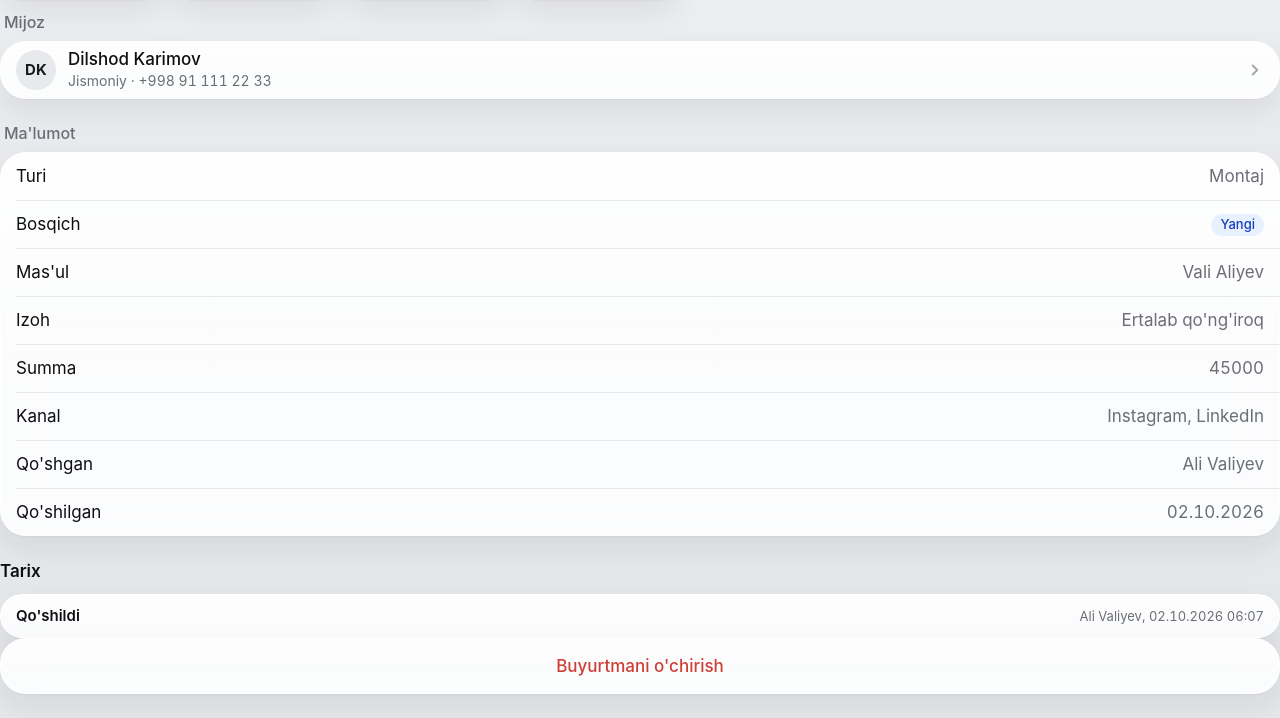
a deletion the API refuses says why and keeps the order
The image size is (1280, 718).
(page scrolled)
Click the button "Buyurtmani o'chirish".
click(640, 666)  # box [0,638,1279,694]
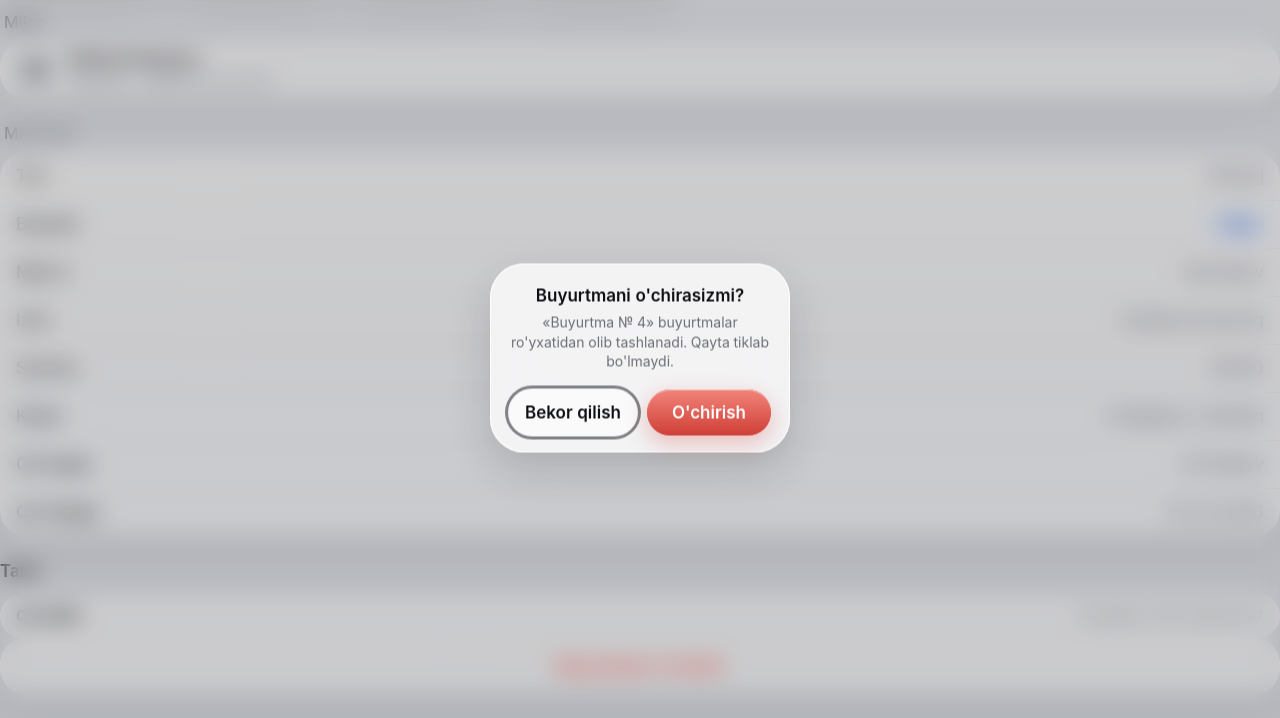
Click the button "O'chirish".
click(709, 412)  # box [646,388,772,436]
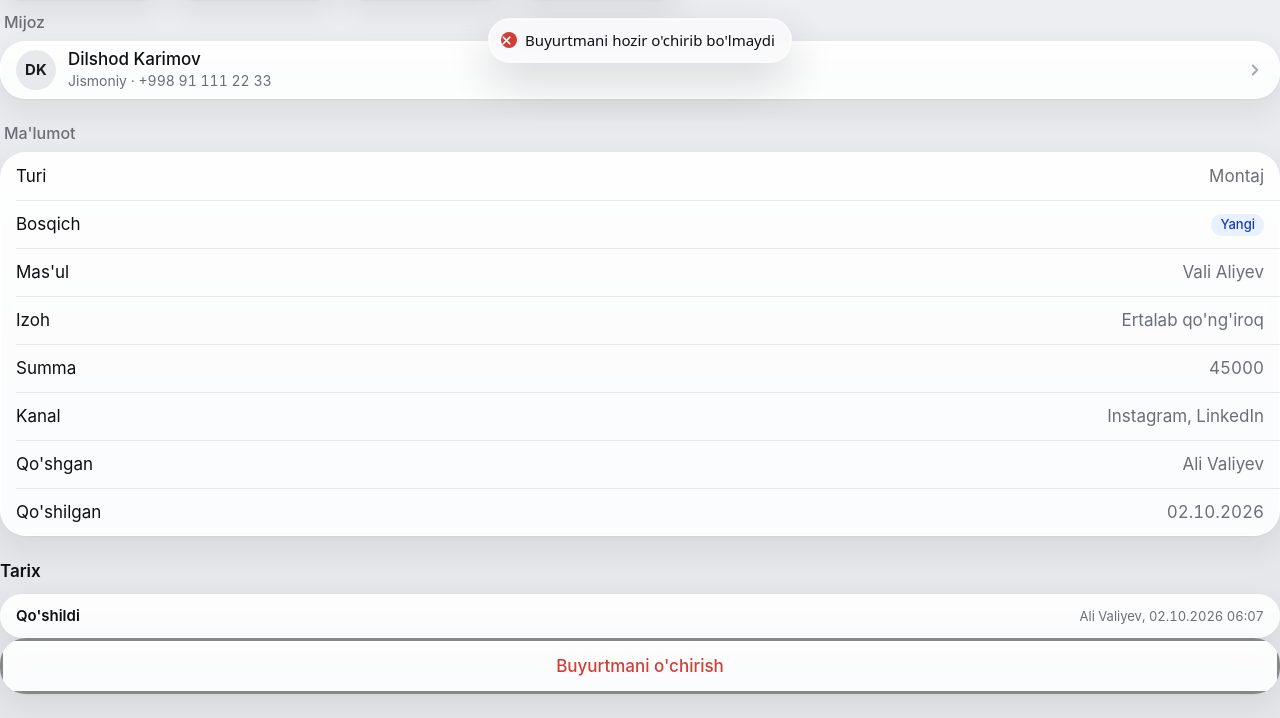
Expected: the text "Buyurtmani hozir o'chirib bo'lmaydi" is shown, [525,29,775,52]
